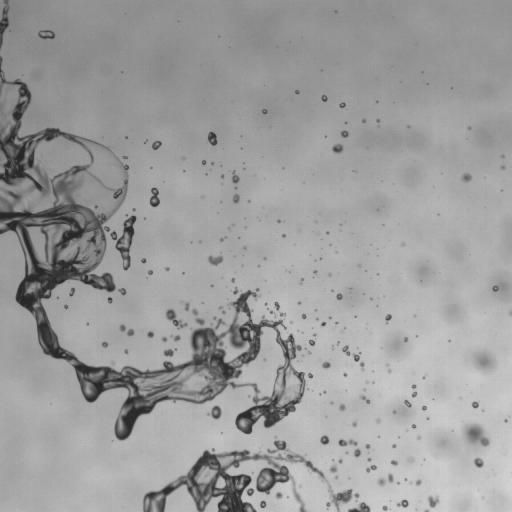droplet: (462, 423, 489, 446), (474, 351, 496, 375), (208, 405, 221, 419), (208, 254, 223, 265), (428, 495, 439, 507), (38, 30, 54, 38), (208, 132, 217, 145), (163, 348, 176, 357), (332, 144, 343, 153), (396, 499, 408, 507), (461, 173, 471, 182), (232, 171, 239, 183), (320, 435, 329, 444), (474, 458, 483, 467), (152, 141, 161, 149), (329, 463, 337, 472), (354, 448, 361, 457), (275, 491, 283, 498), (233, 194, 239, 203), (183, 302, 189, 311), (171, 335, 180, 341), (341, 130, 348, 137), (119, 288, 126, 295), (404, 400, 411, 407), (385, 314, 391, 322), (322, 362, 330, 368), (260, 500, 266, 508), (274, 301, 279, 310), (472, 401, 478, 408), (339, 404, 345, 411), (321, 95, 327, 101), (492, 285, 498, 291), (336, 293, 342, 299), (147, 331, 153, 337), (382, 505, 388, 511), (69, 288, 74, 295), (339, 102, 345, 107), (161, 336, 167, 341), (102, 341, 107, 347), (309, 340, 315, 345), (412, 391, 417, 397), (391, 460, 397, 465), (416, 479, 421, 485), (141, 258, 146, 263), (365, 444, 370, 449), (262, 109, 267, 113), (108, 297, 112, 302), (422, 405, 426, 410), (352, 421, 356, 426), (338, 458, 342, 463), (408, 458, 413, 462), (501, 165, 505, 169), (220, 237, 224, 241), (165, 267, 169, 271), (148, 270, 152, 274), (301, 314, 305, 318), (321, 322, 325, 326), (412, 384, 416, 388), (314, 270, 317, 274), (231, 278, 234, 282), (64, 305, 68, 308), (376, 419, 380, 422), (412, 424, 415, 428), (368, 457, 371, 461), (424, 509, 429, 511), (295, 90, 298, 93), (202, 160, 205, 163), (300, 279, 303, 282), (404, 338, 407, 341), (124, 350, 127, 353), (343, 373, 346, 376), (417, 436, 420, 439), (335, 475, 337, 479), (362, 119, 365, 121), (376, 119, 379, 121), (502, 155, 504, 158), (277, 220, 280, 222), (393, 444, 395, 447), (468, 127, 470, 129), (282, 235, 284, 237), (402, 243, 404, 245), (298, 302, 300, 304), (335, 322, 337, 324), (337, 342, 339, 344), (308, 351, 310, 353), (388, 369, 390, 371), (423, 376, 425, 378), (366, 381, 368, 383), (393, 411, 395, 413), (505, 419, 507, 421)
ligament: (0, 56, 313, 440), (143, 438, 359, 511), (110, 215, 136, 270), (342, 345, 364, 370), (0, 0, 9, 49), (165, 309, 187, 329), (377, 473, 393, 486), (347, 502, 370, 511), (149, 187, 159, 207), (119, 324, 134, 336), (338, 439, 357, 446), (359, 394, 370, 403), (366, 465, 376, 472), (219, 306, 225, 313), (268, 309, 275, 315), (509, 310, 511, 315)
